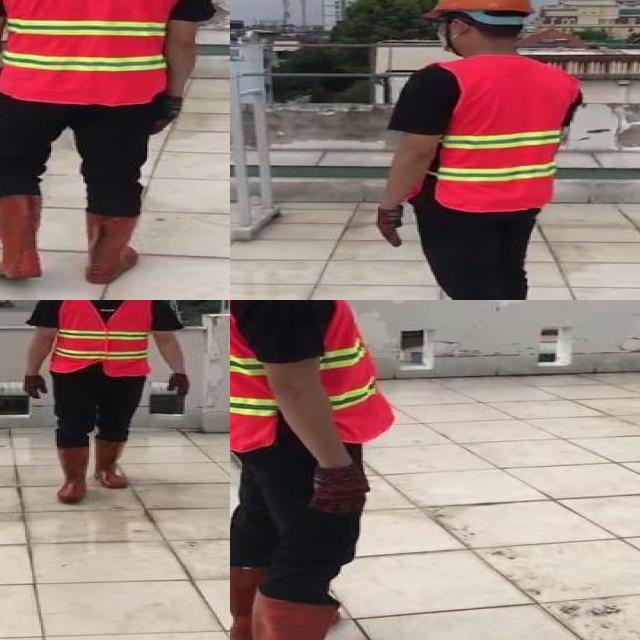boots: (230, 550, 326, 640), (245, 587, 377, 640), (83, 208, 138, 284), (0, 194, 45, 281), (54, 446, 92, 504), (91, 440, 130, 489)
hand_glove: (309, 464, 372, 513), (376, 206, 408, 247), (152, 97, 179, 136), (166, 373, 192, 399), (22, 374, 48, 399)
head_helmet: (420, 0, 538, 20)
person: (364, 0, 595, 300), (230, 300, 429, 640), (0, 0, 222, 287), (17, 300, 203, 509)
vest: (424, 56, 579, 214), (230, 300, 391, 449), (0, 0, 184, 104), (51, 300, 147, 377)
